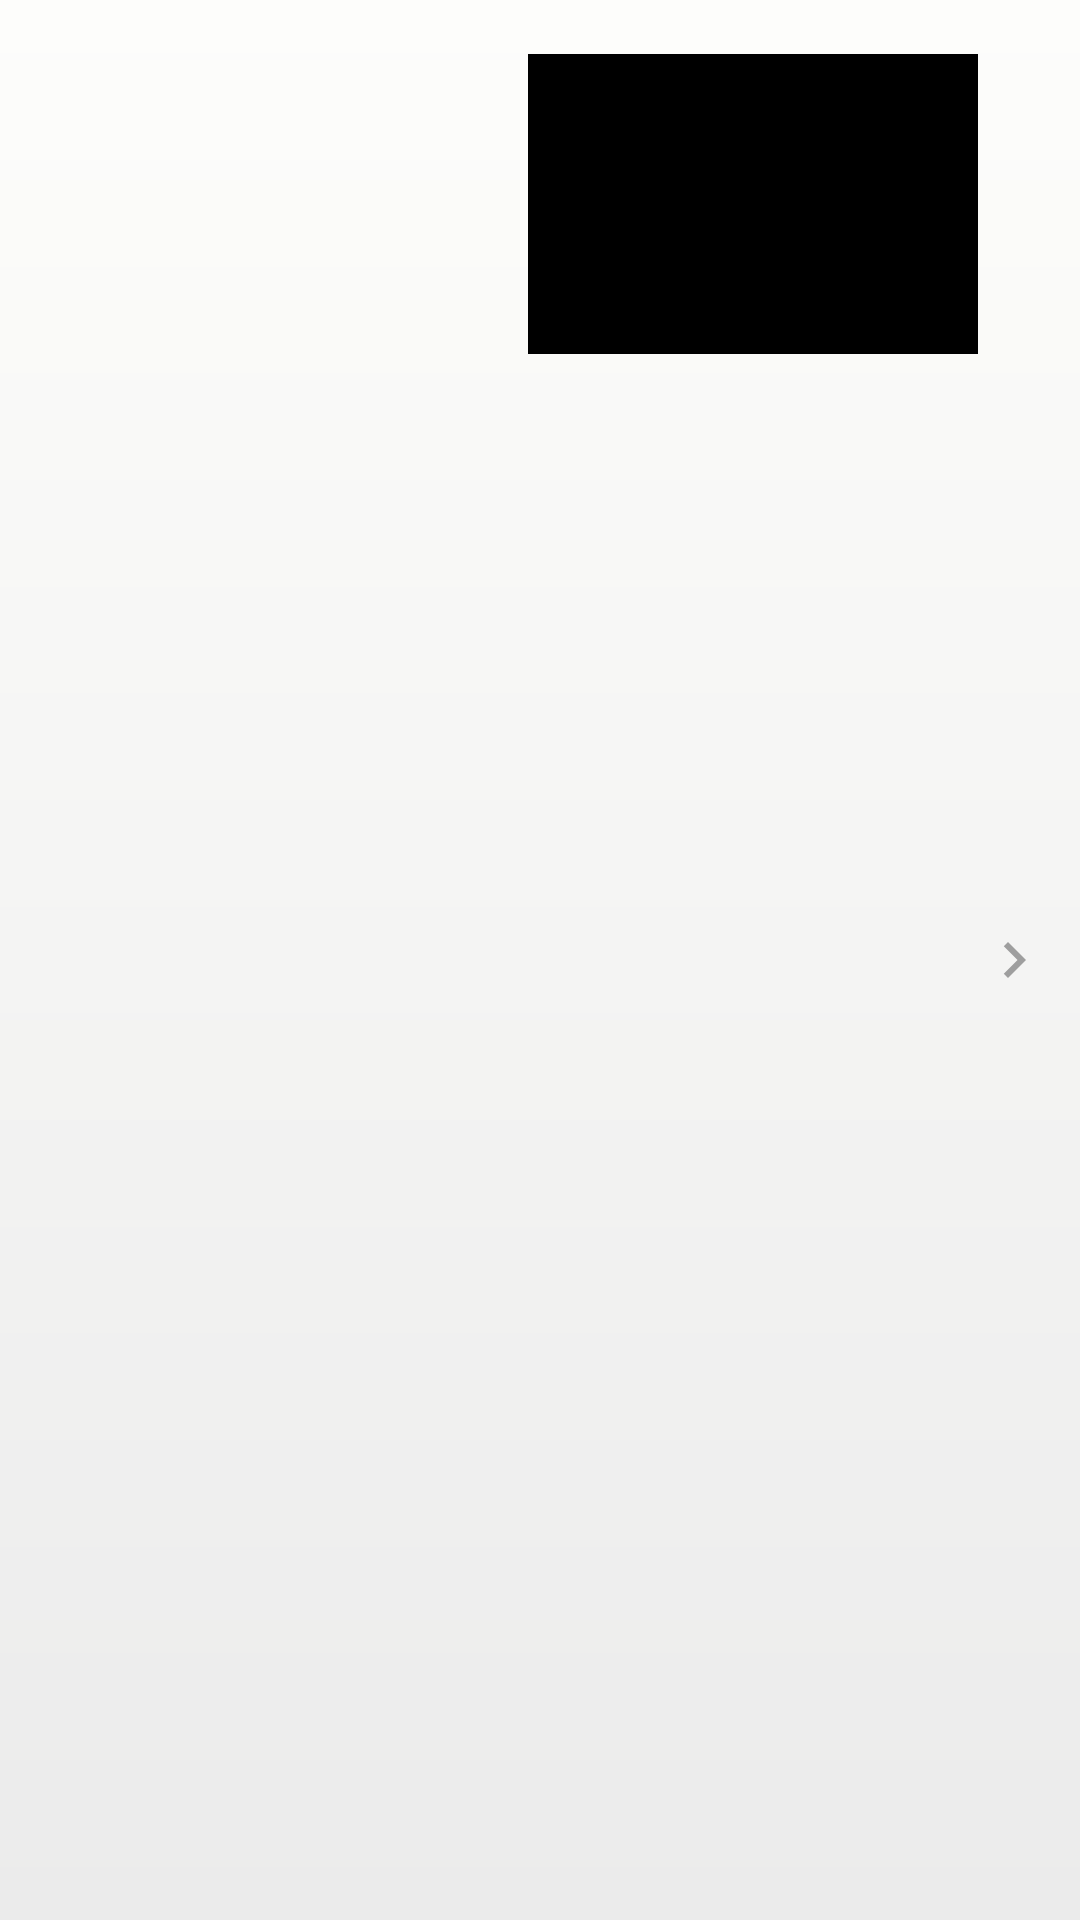

Locate icon controls on the screen. Image size 1080x1920, boxes as [x1=x1, y1=y1, x2=x2, y2=y2].
More: [x1=1004, y1=942, x2=1026, y2=978]
